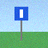sign: (15, 7, 28, 40)
